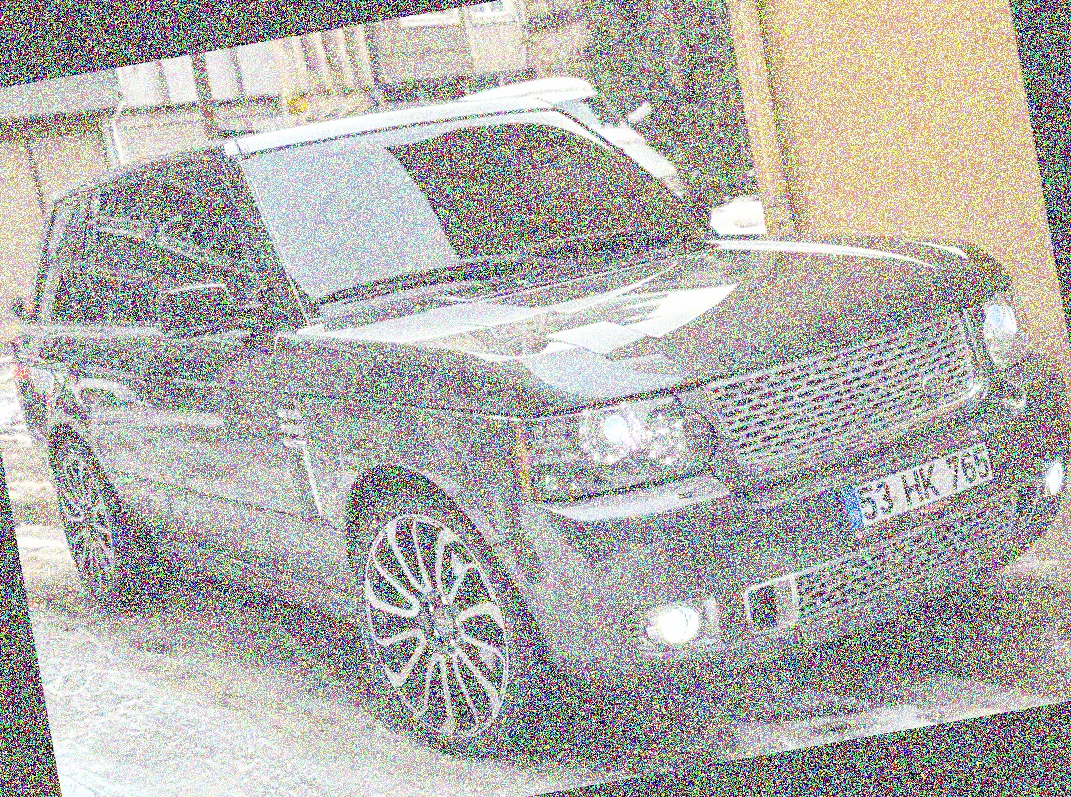plaka: (849, 438, 1014, 529)
